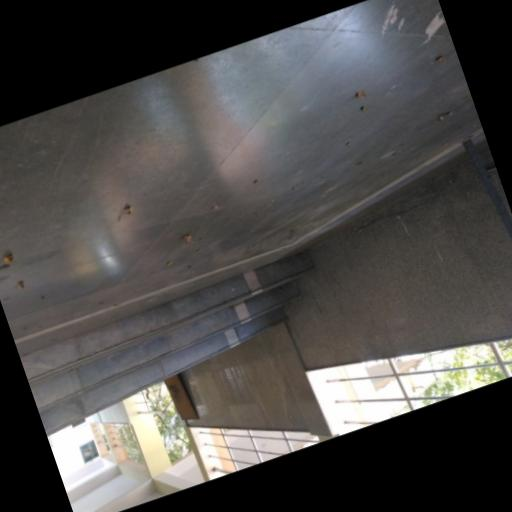stairs: (20, 251, 312, 434)
